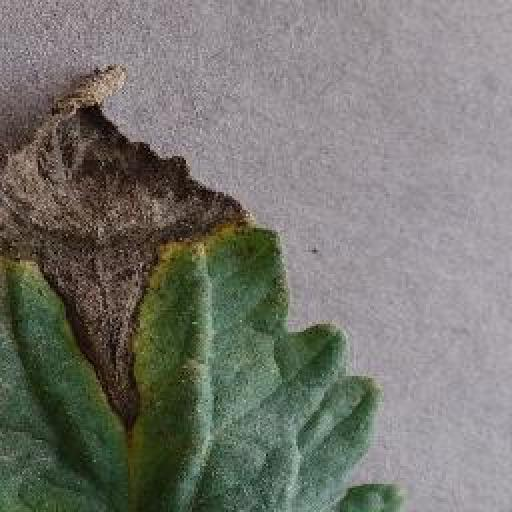Early Blight: (3, 67, 262, 465)
